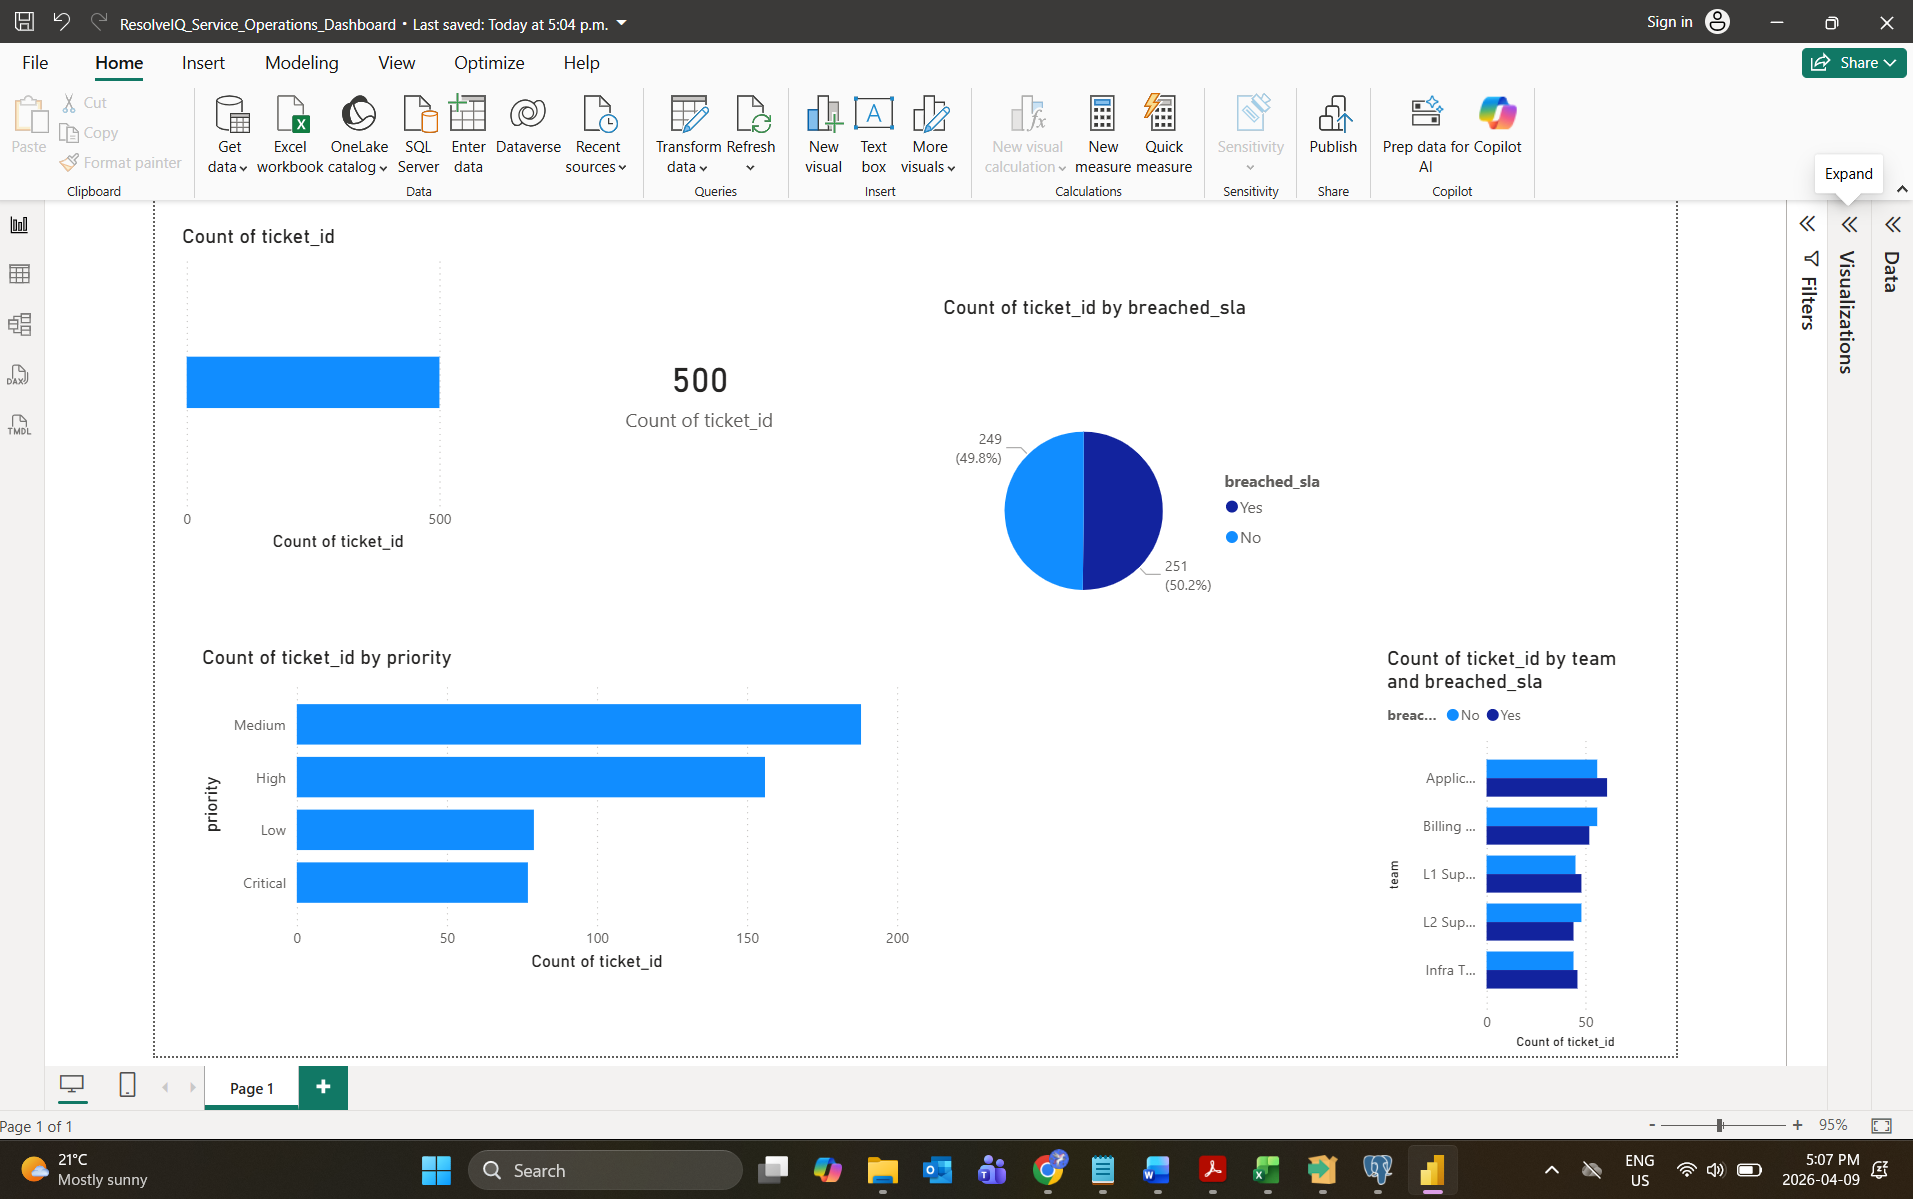

What the dashboard file says about the page in this screenshot:
{"tool":"powerbi","page":{"name":"Page 1","canvas":[1280,720],"ordinal":0},"visuals":[{"type":"barChart","fields":{"Y":["CountNonNull(public tickets.ticket_id)"]},"box":[17.4,19.8,279.1,280.2],"z":0},{"type":"card","fields":{"Values":["CountNonNull(public tickets.ticket_id)"]},"box":[318.6,19.8,279.1,280.2],"z":1},{"type":"barChart","fields":{"Category":["public tickets.priority"],"Y":["CountNonNull(public tickets.ticket_id)"]},"box":[34.9,374.4,604.7,279.1],"z":2},{"type":"pieChart","fields":{"Category":["public tickets.breached_sla"],"Y":["CountNonNull(public tickets.ticket_id)"]},"box":[658.1,80.2,345.3,344.2],"z":3},{"type":"clusteredBarChart","fields":{"Category":["public tickets.team"],"Y":["CountNonNull(public tickets.ticket_id)"],"Series":["public tickets.breached_sla"]},"box":[1031.4,375.6,233.7,344.2],"z":4}]}

Visuals, with their boxes on the page's 1280x720 design canvas (x1, y1, x2, y2). These are canvas units, not pixel positions in the 1913x1199 screenshot, which may show the page scaled, cropped or inside an application window:
barChart - CountNonNull(public tickets.ticket_id): {"x1": 17, "y1": 20, "x2": 296, "y2": 300}
card - CountNonNull(public tickets.ticket_id): {"x1": 319, "y1": 20, "x2": 598, "y2": 300}
barChart - public tickets.priority x CountNonNull(public tickets.ticket_id): {"x1": 35, "y1": 374, "x2": 640, "y2": 654}
pieChart - public tickets.breached_sla x CountNonNull(public tickets.ticket_id): {"x1": 658, "y1": 80, "x2": 1003, "y2": 424}
clusteredBarChart - public tickets.team x CountNonNull(public tickets.ticket_id): {"x1": 1031, "y1": 376, "x2": 1265, "y2": 720}
